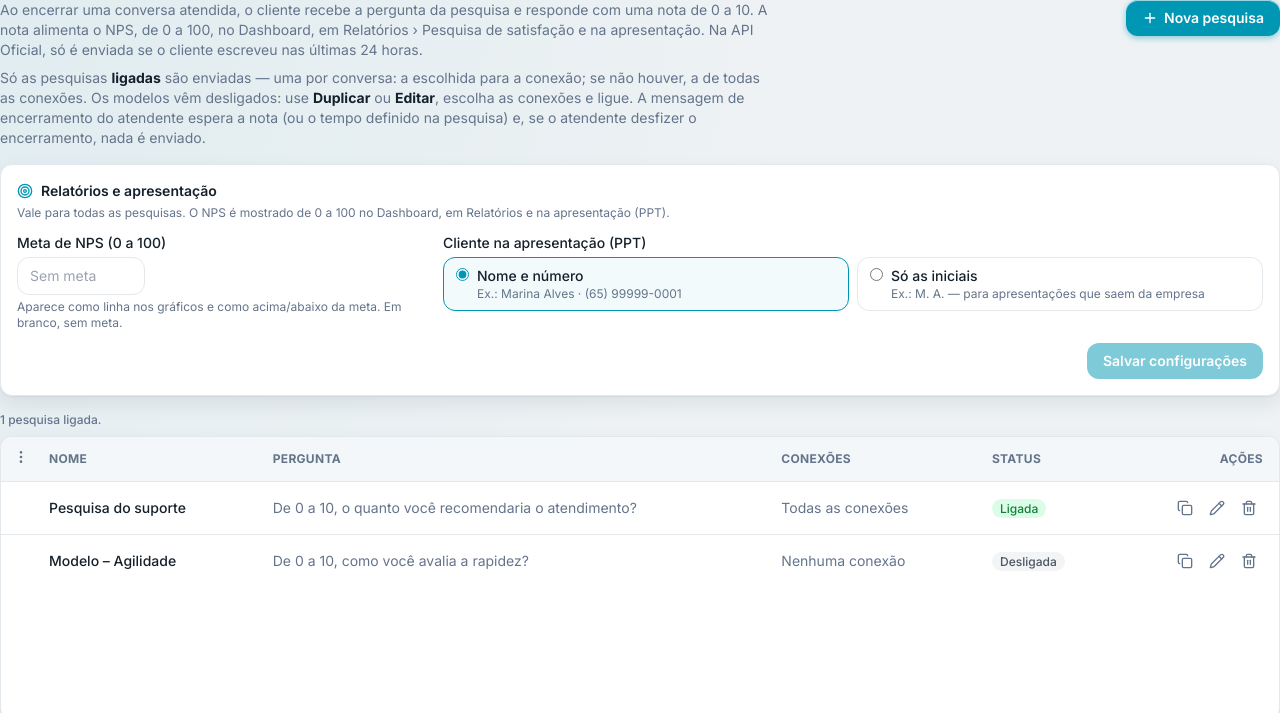
Test: Respostas › Pesquisa: lista de pesquisas › para ligar, precisa escolher conexões
The image size is (1280, 713).
What coordinates should you click on to do the following:
click the button named "Editar Modelo – Agilidade"
I would click on:
 (1217, 561)
Its box is [1203,547,1231,575].
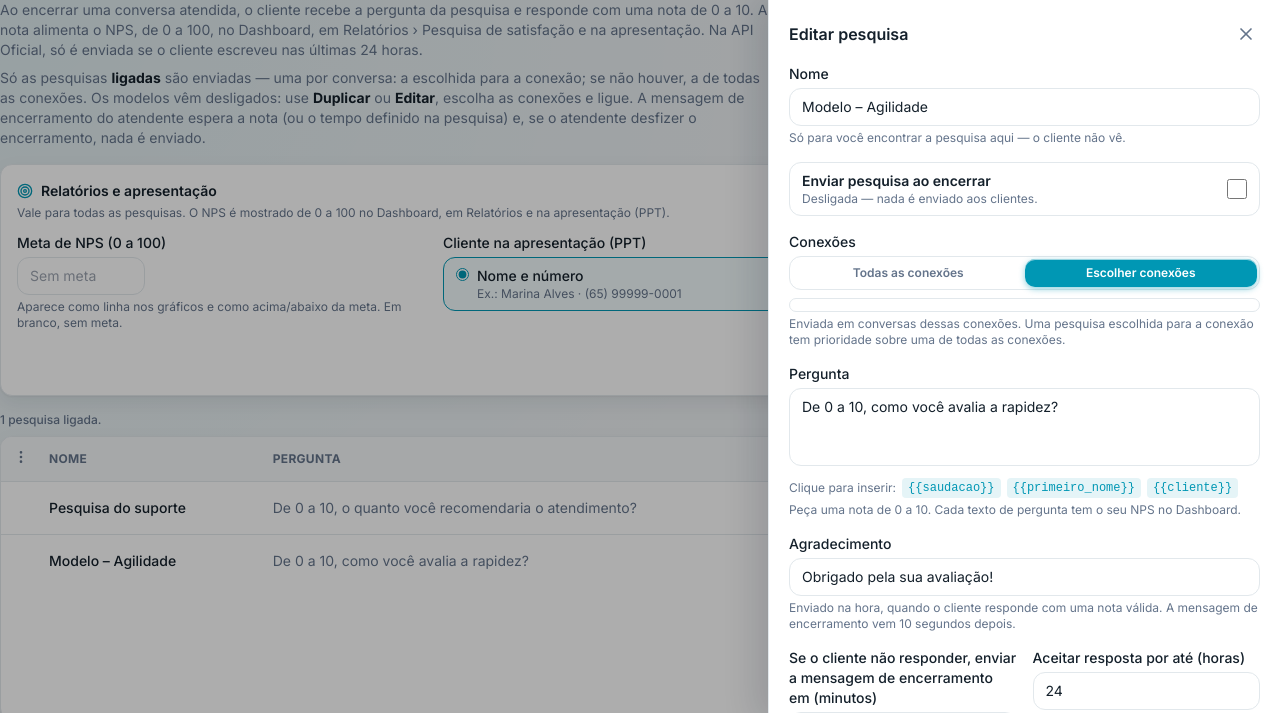
What coordinates should you click on to do the following:
click the switch
I would click on:
 (1237, 189)
Its box is [1227,179,1247,199].
(page scrolled)
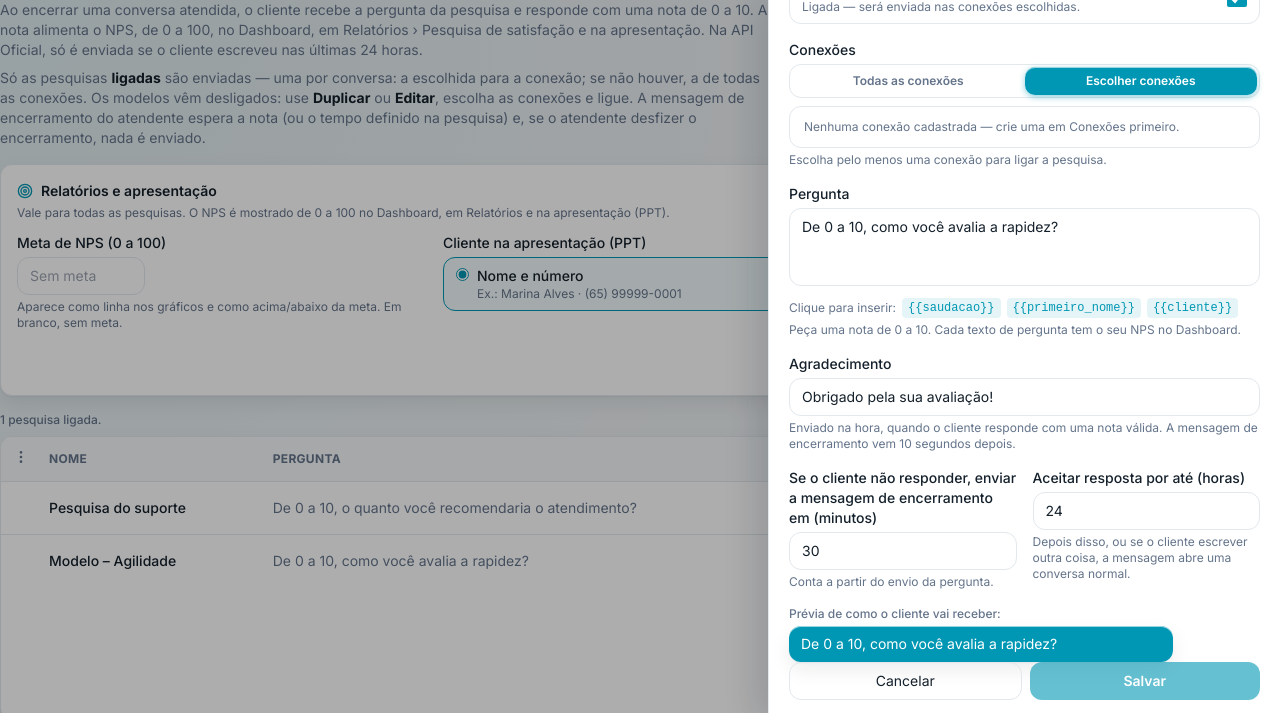
Result: the text "Escolha pelo menos uma conexão para ligar a pesquisa." is shown at [789,152,1107,167]
Result: the button "Salvar" is disabled at [1030,662,1260,700]
